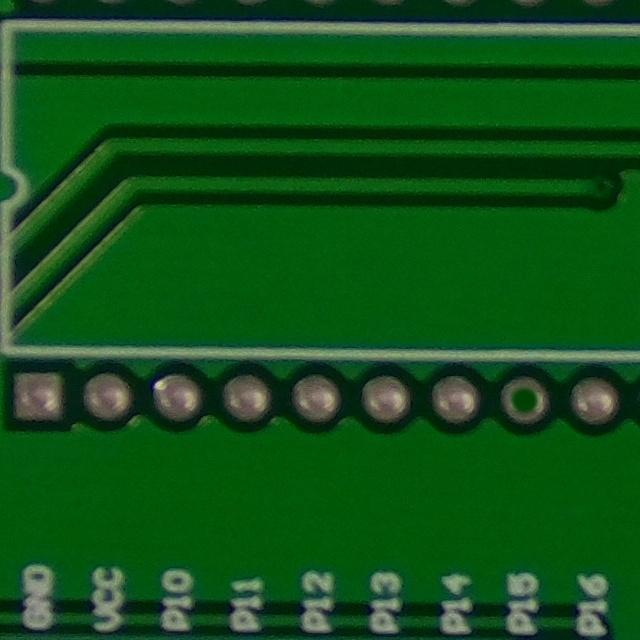missing_hole: (495, 361, 560, 435)
